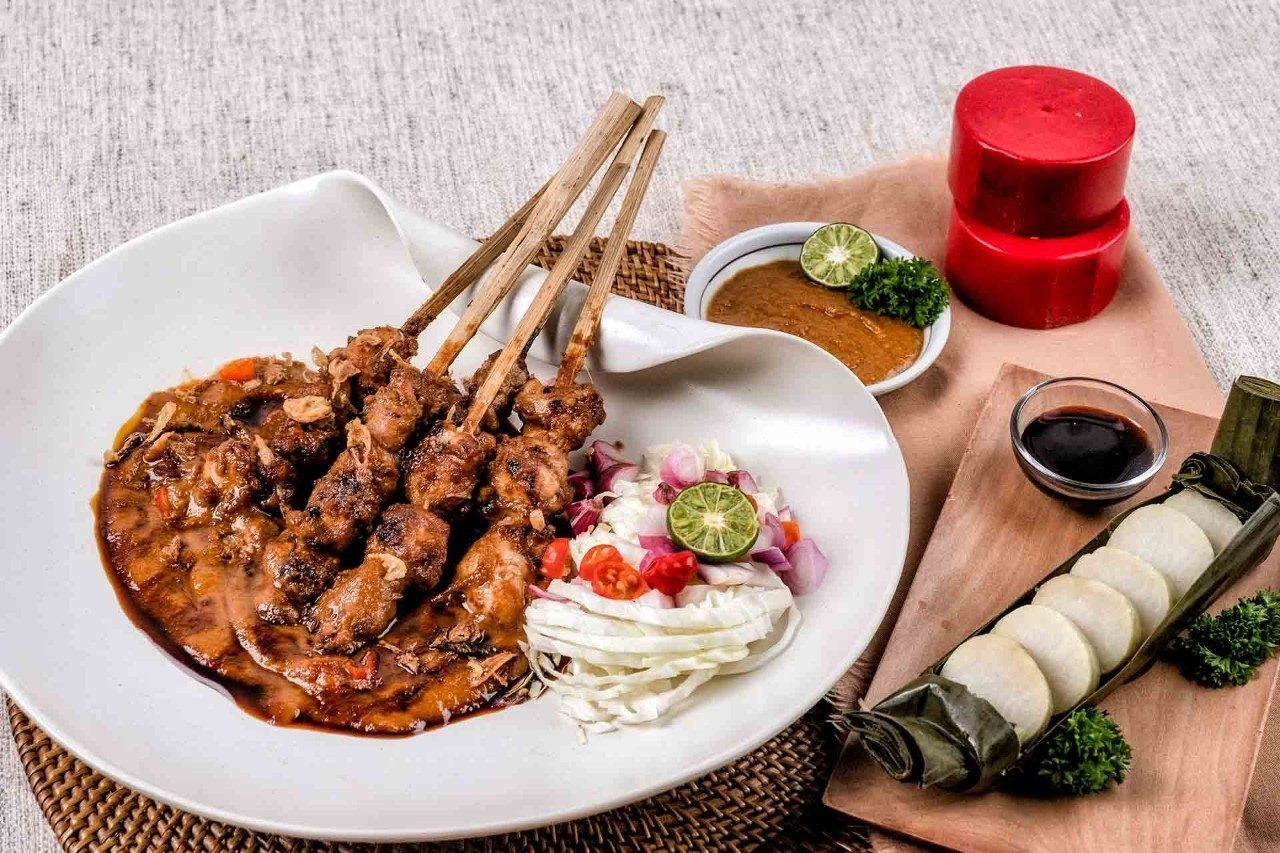sate: (151, 295, 603, 688)
